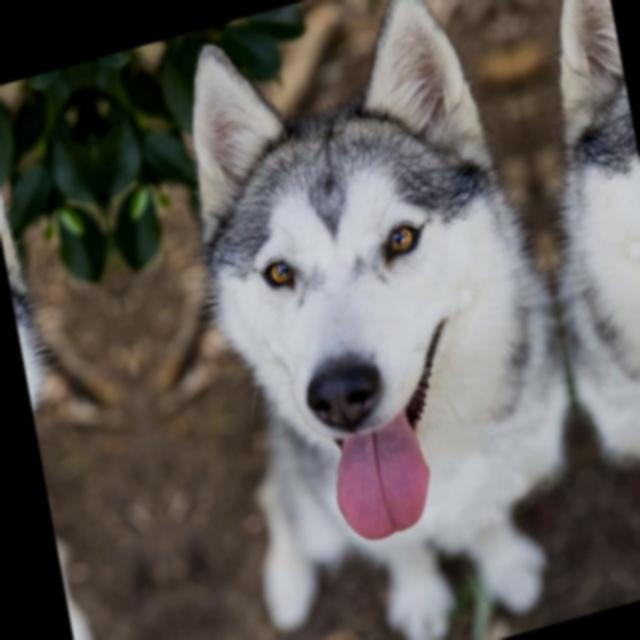dog: (142, 0, 610, 640), (492, 0, 640, 605), (0, 88, 133, 640)
